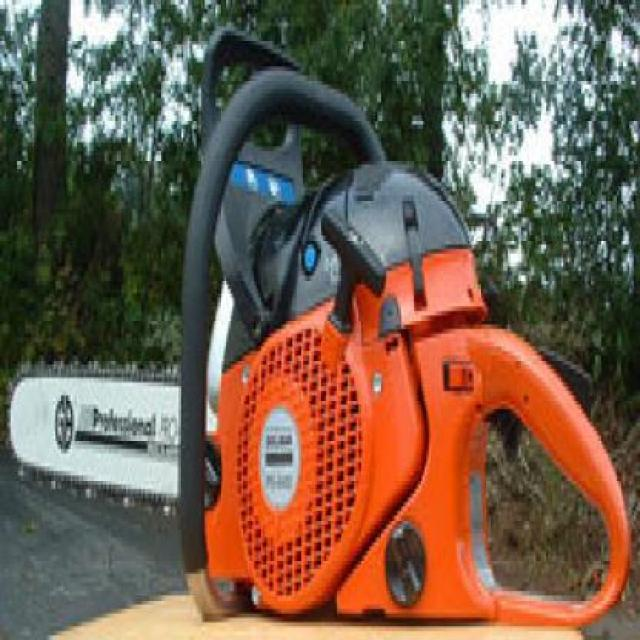Chainsaw: (0, 46, 631, 632)
